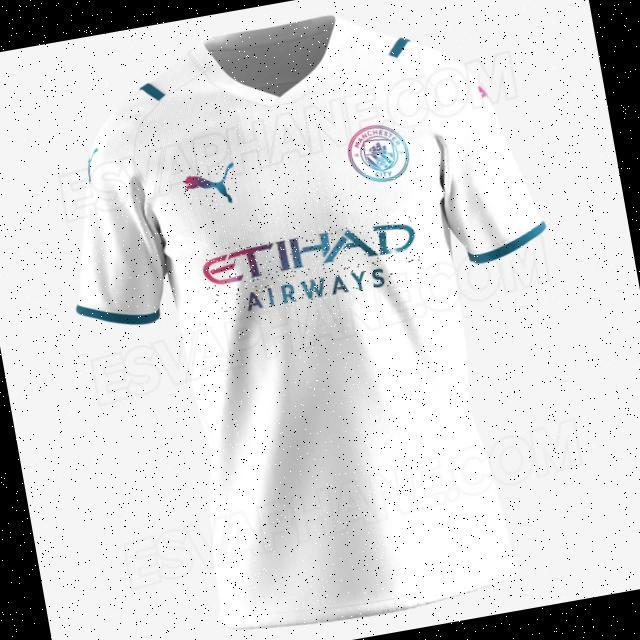Etihad Airways: (201, 215, 424, 317)
Puma: (180, 160, 241, 211)
